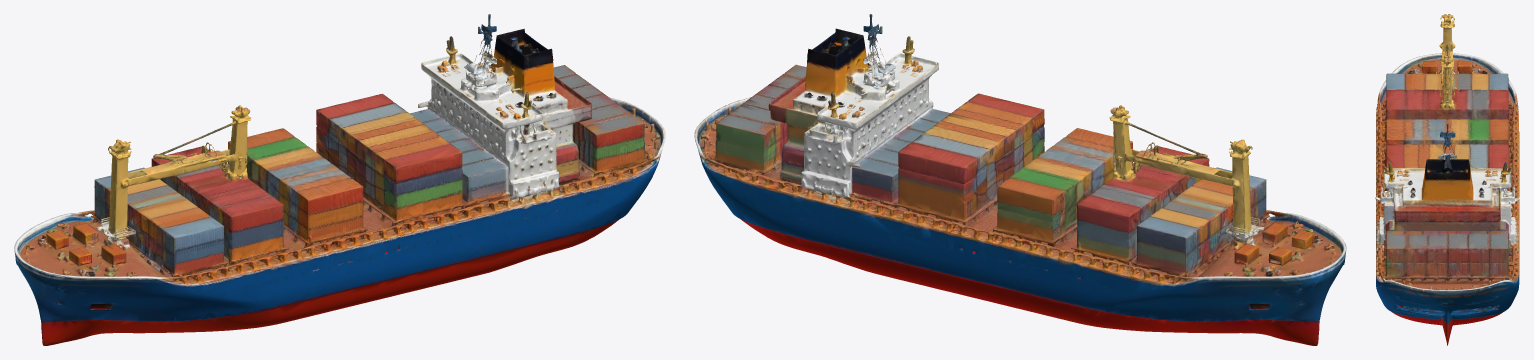
Rendered from container-ship-optimized.glb.
3 views of the same model, side by side, from view 1: azimuth 30°, elevation 25°; view 2: azimuth 150°, elevation 25°; view 3: azimuth 270°, elevation 25° (orthographic). The views are drawn at different scales.
Visible parts, largest first — view 1: Mesh_0.001; view 2: Mesh_0.001; view 3: Mesh_0.001.
Boxes of the visible parts, bbox=[...] form: Mesh_0.001: bbox=[14, 14, 665, 345]; Mesh_0.001: bbox=[694, 14, 1346, 345]; Mesh_0.001: bbox=[1375, 14, 1519, 345].
Size of the model in its own units: 219 by 75.01 by 57.2.
Materials: 1 (1 with a texture image).
